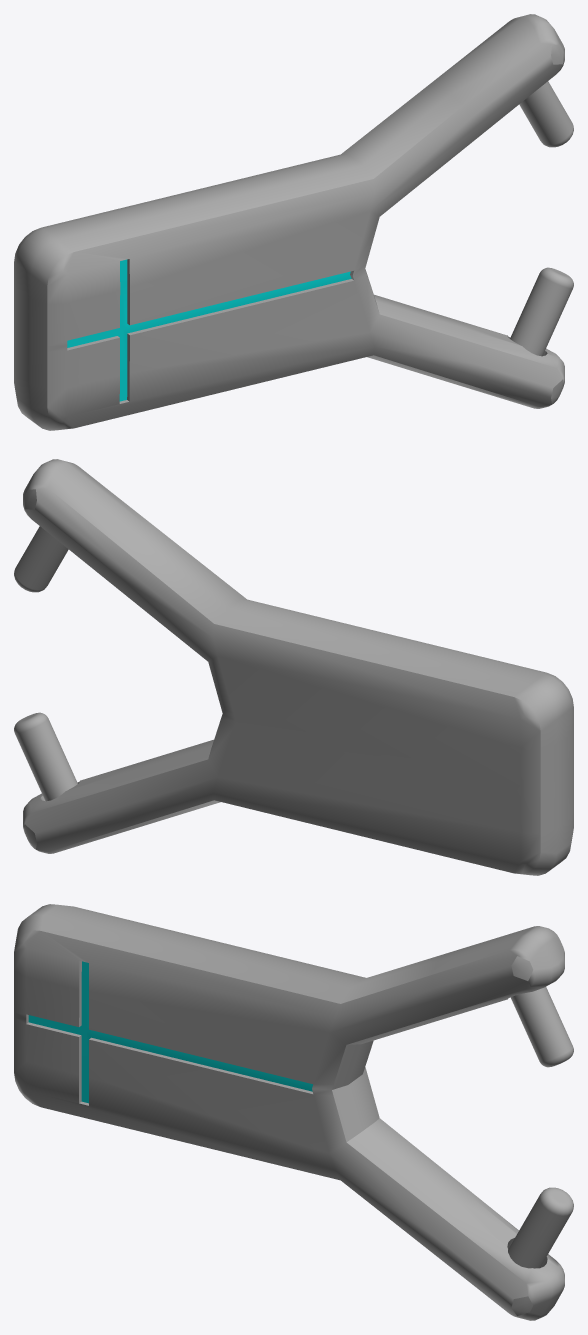
The model's file is Plasma Torch.fbx.
The picture shows the model from 3 angles, top to bottom: view 1: azimuth 30°, elevation 25°; view 2: azimuth 150°, elevation 25°; view 3: azimuth 330°, elevation 25°; orthographic projection.
Visible parts, largest first — view 1: pCube3; view 2: pCube3; view 3: pCube3.
Boxes of the visible parts, box(x1,y1,x2,y2) form: pCube3: box(14, 14, 573, 430); pCube3: box(14, 459, 573, 875); pCube3: box(14, 904, 573, 1320).
Size of the model in its own units: 0.4626 by 0.3124 by 0.0599.
